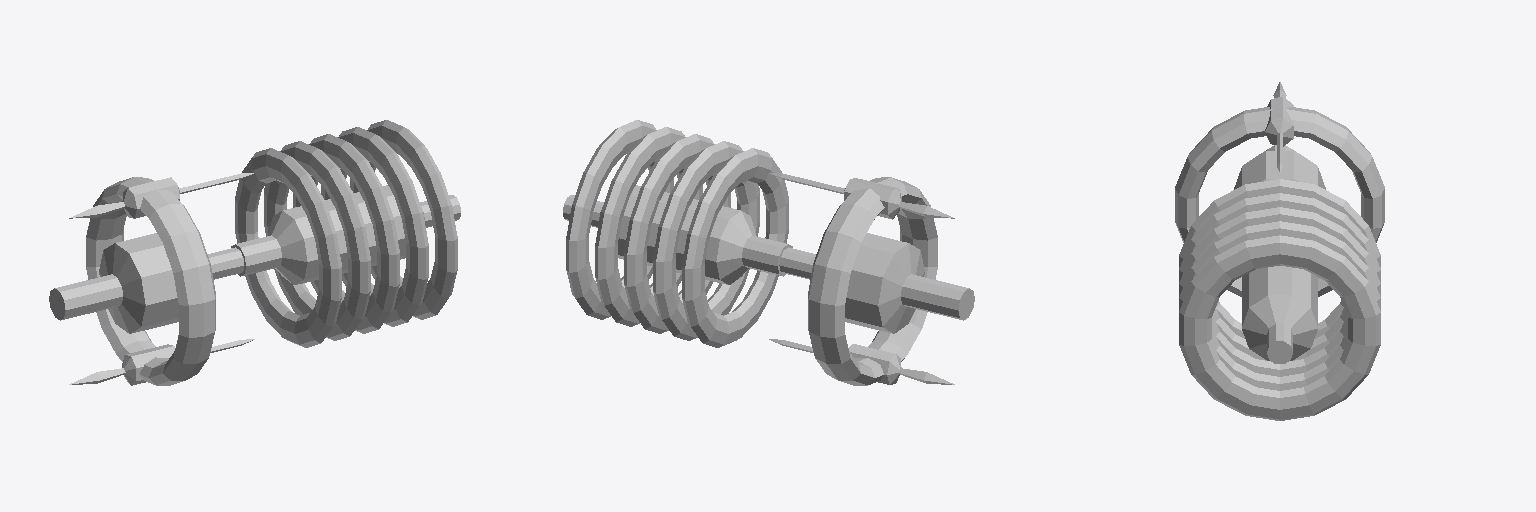
File: starblast-1538715545696.obj
3 renders of one model, left to right at view 1: azimuth 30°, elevation 25°; view 2: azimuth 150°, elevation 25°; view 3: azimuth 270°, elevation 25°, orthographic.
Bounding box in the file's own units: 5.5 × 2.59 × 2.52.